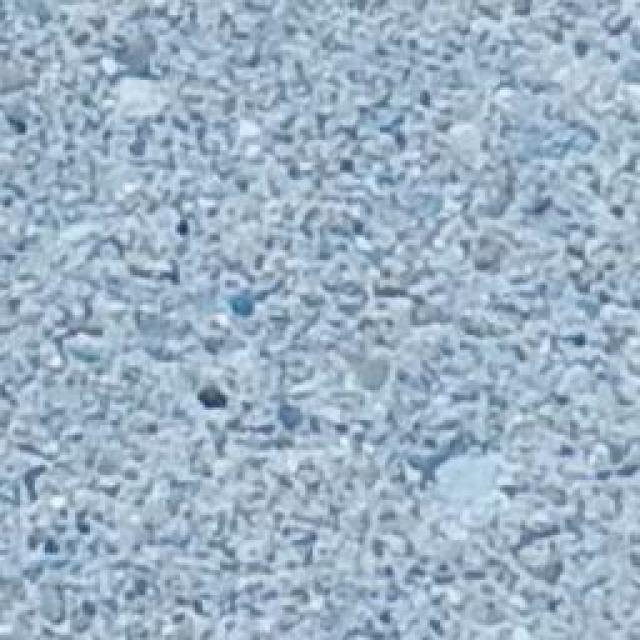concrete-crack: (17, 327, 104, 391)
